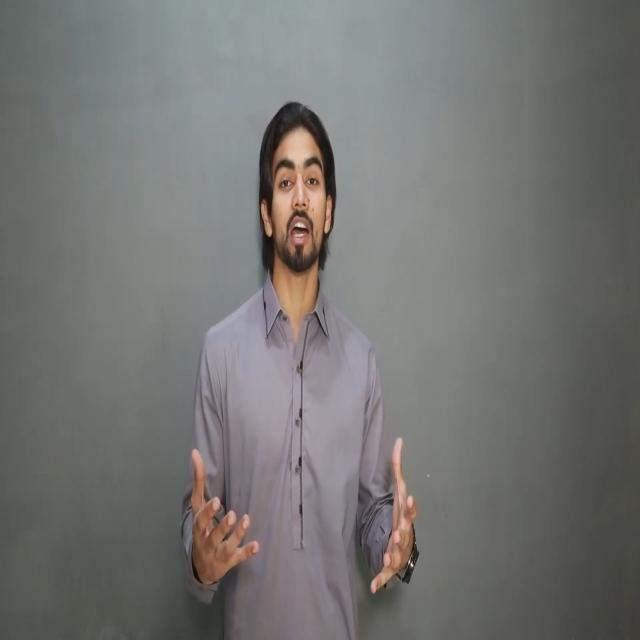dress: (177, 269, 403, 640)
